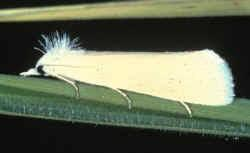Insects: (16, 31, 238, 120)
